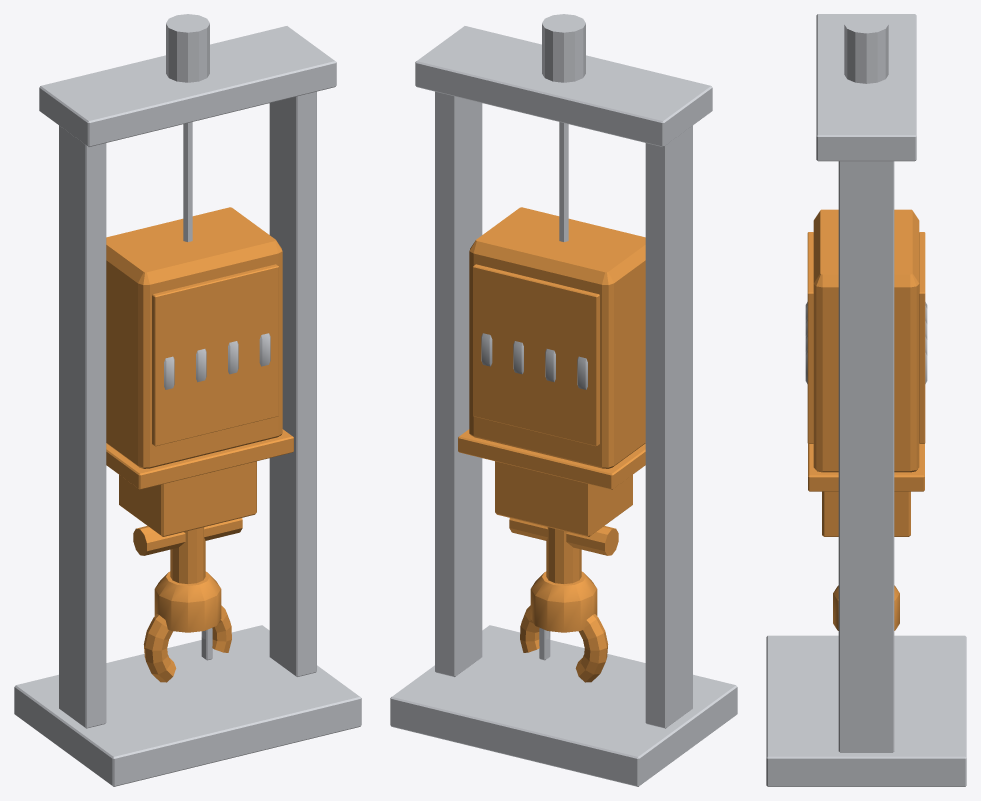
The model's file is offshore-oil-rig-and-platform-travelling-block-and-hoo-501acad9__37015.glb.
3 renders of one model, left to right at view 1: azimuth 30°, elevation 25°; view 2: azimuth 150°, elevation 25°; view 3: azimuth 270°, elevation 25°, orthographic.
Visible parts, largest first — view 1: travelling-block-and-hook, travelling-block; view 2: travelling-block-and-hook, travelling-block; view 3: travelling-block-and-hook, travelling-block.
Boxes of the visible parts, x1=… form: travelling-block-and-hook: x1=14, y1=14, x2=361, y2=786; travelling-block: x1=106, y1=207, x2=293, y2=682; travelling-block-and-hook: x1=390, y1=14, x2=737, y2=786; travelling-block: x1=458, y1=207, x2=645, y2=682; travelling-block-and-hook: x1=766, y1=14, x2=966, y2=786; travelling-block: x1=807, y1=209, x2=925, y2=630.
Size of the model in its own units: 2.6 by 6.96 by 1.8.
